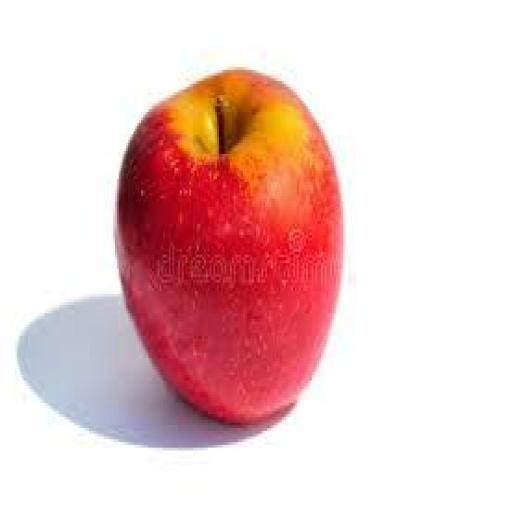apple: (116, 70, 343, 422)
